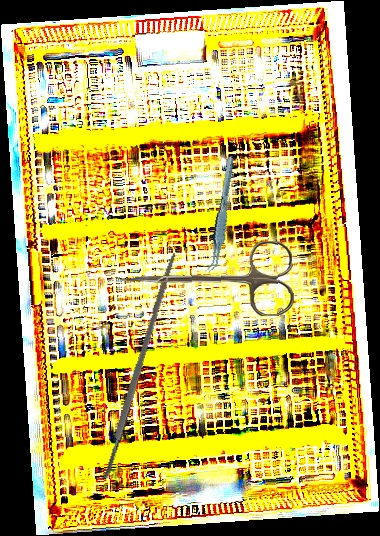Iris Scissors: (118, 240, 295, 321)
Scalpel Handle: (99, 251, 179, 481)
Tissue Forceps: (195, 155, 248, 276)
